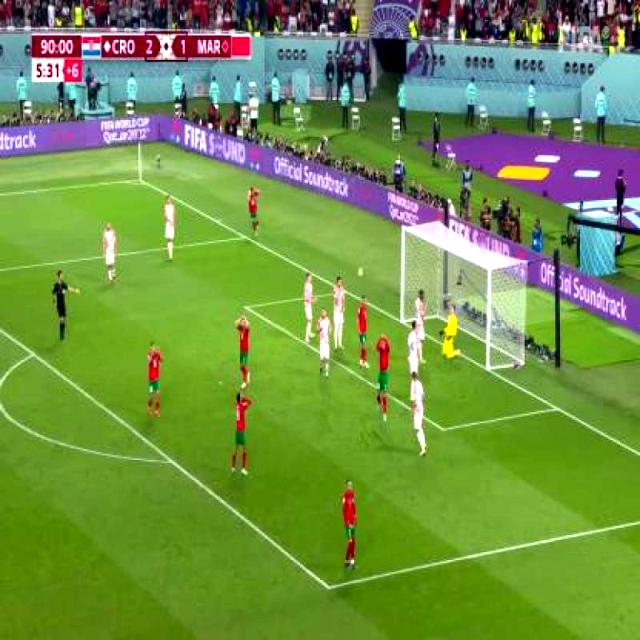bigarea_bottom_inner: (317, 569, 340, 608)
bigarea_top_outter: (240, 228, 252, 246)
bottom_arc_area_intersection: (163, 444, 182, 478)
corner: (132, 176, 145, 186)
smallarea_bottom_inner: (434, 417, 454, 443)
smallarea_bottom_outter: (548, 392, 566, 424)
smallarea_top_inner: (238, 296, 254, 318)
top_arc_area_intersection: (24, 341, 41, 371)
